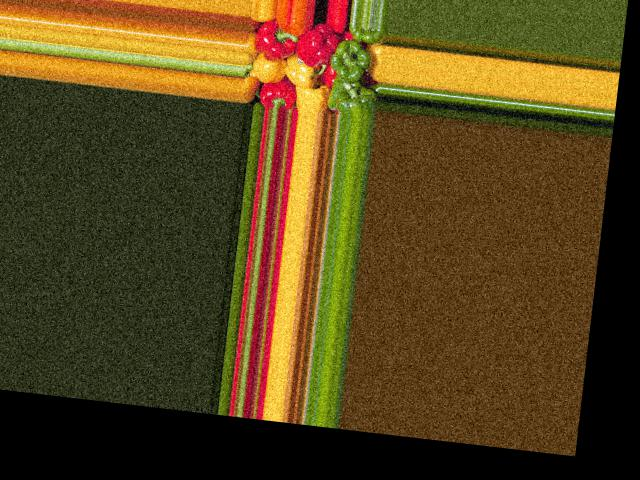bell_pepper: (346, 24, 386, 50)
